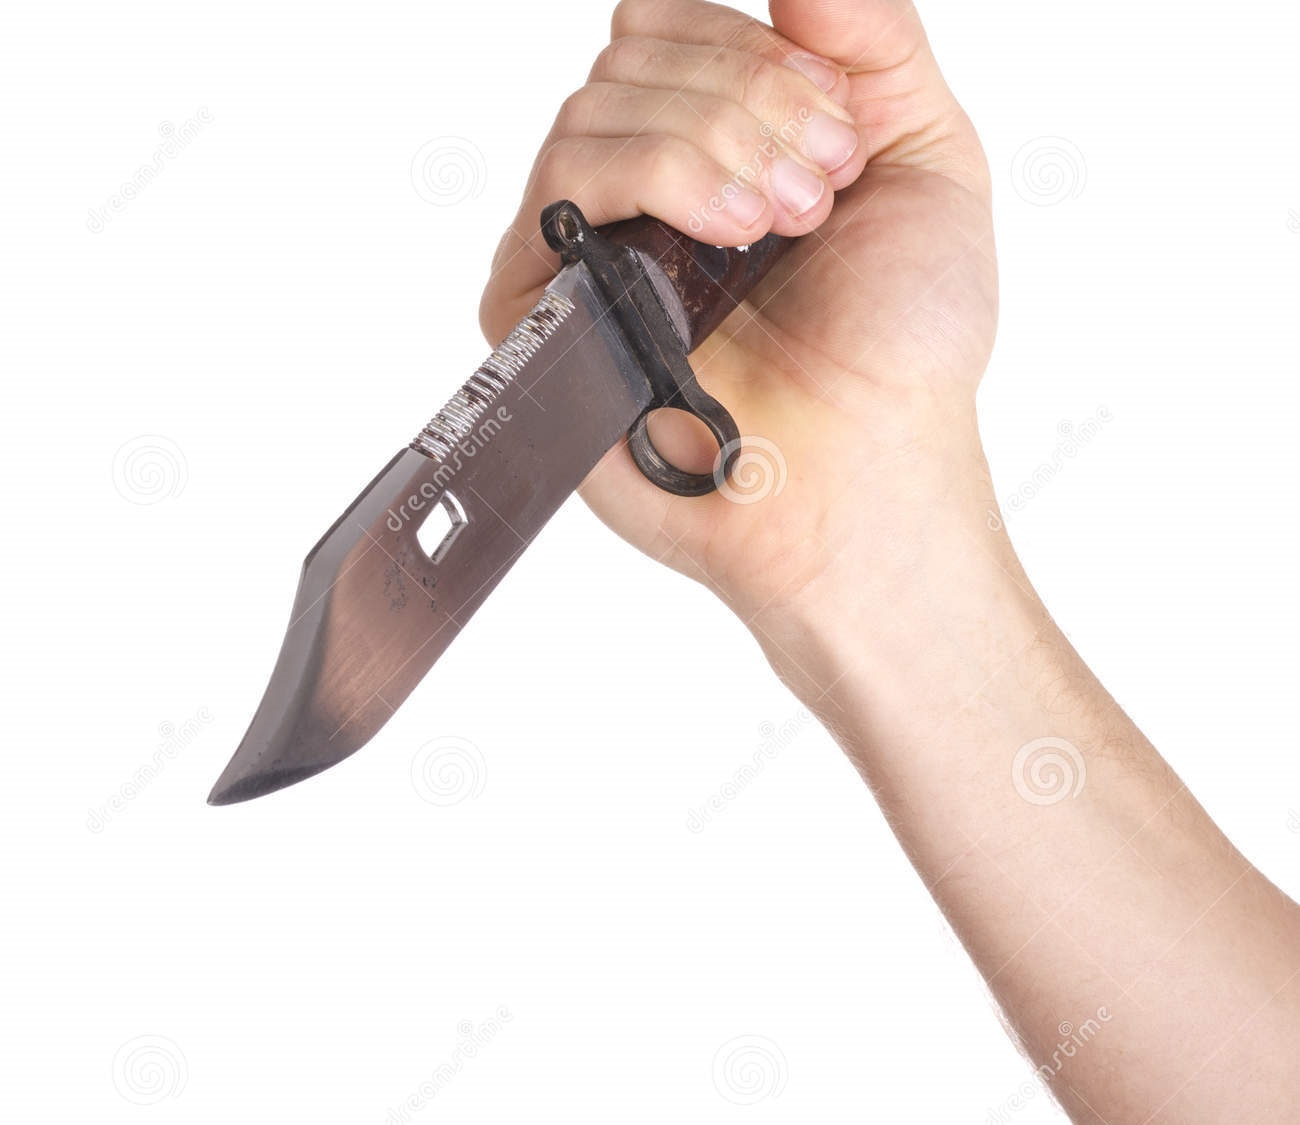knife: (191, 1, 932, 841)
